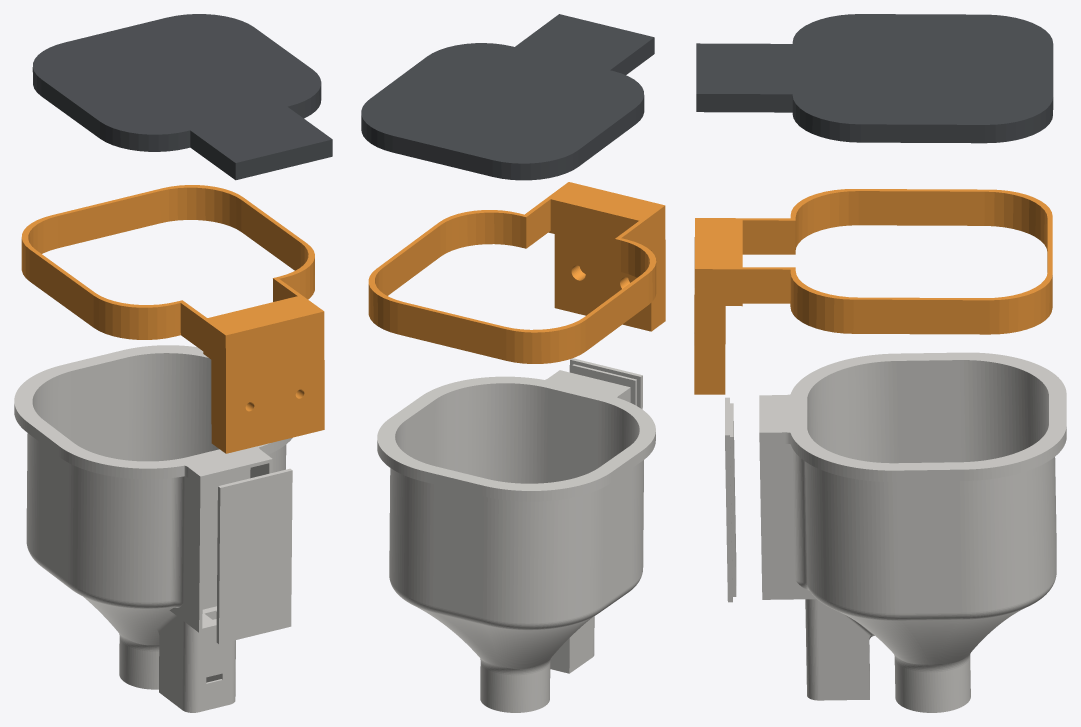
File: pet-feeder.glb
3 renders of one model, left to right at view 1: azimuth 30°, elevation 25°; view 2: azimuth 150°, elevation 25°; view 3: azimuth 270°, elevation 25°, orthographic. The views are drawn at different scales.
Visible parts, largest first — view 1: 37_Máy cho Nhím bựng bự ăn tự động, stand_petfeel_v4, stand_petfeel_v3; view 2: 37_Máy cho Nhím bựng bự ăn tự động, stand_petfeel_v4, stand_petfeel_v3; view 3: 37_Máy cho Nhím bựng bự ăn tự động, stand_petfeel_v4, stand_petfeel_v3.
Part boxes in pixels (box(x1,y1,x2,y2)): 37_Máy cho Nhím bựng bự ăn tự động: box(14, 345, 292, 712); stand_petfeel_v4: box(32, 14, 332, 180); stand_petfeel_v3: box(21, 185, 324, 453); 37_Máy cho Nhím bựng bự ăn tự động: box(377, 358, 655, 712); stand_petfeel_v4: box(361, 14, 654, 180); stand_petfeel_v3: box(368, 182, 665, 363); 37_Máy cho Nhím bựng bự ăn tự động: box(725, 352, 1066, 712); stand_petfeel_v4: box(696, 14, 1053, 143); stand_petfeel_v3: box(694, 189, 1052, 394).
Bounding box in the file's own units: 115 × 279 × 148.
